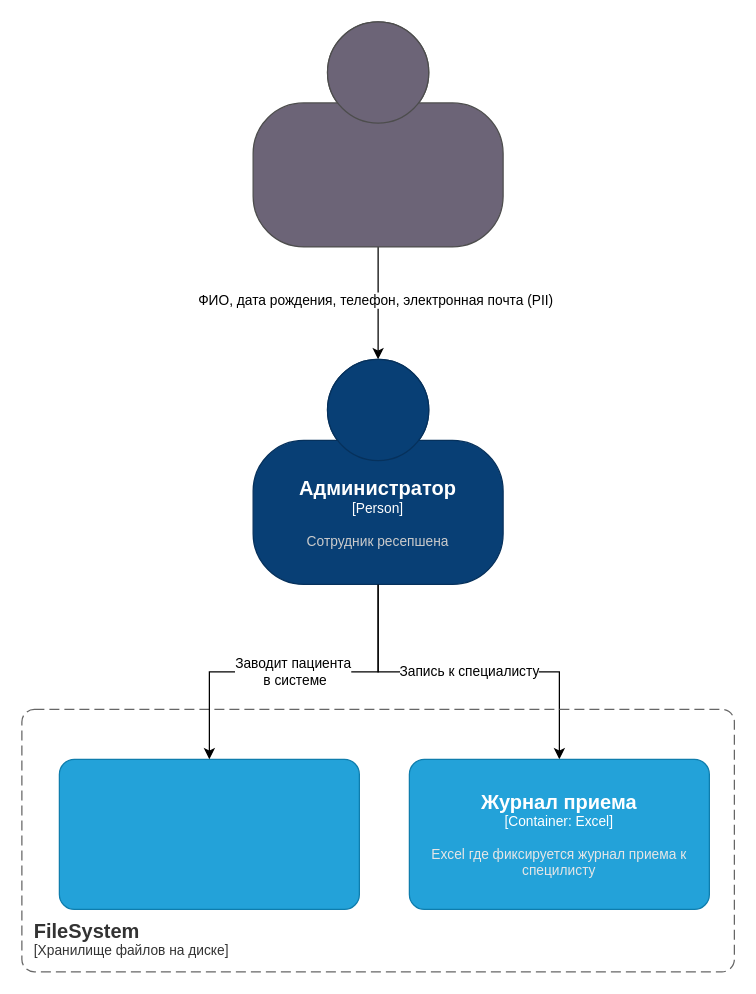
The diagram is 756 pixels wide and 994 high, and some of its shapes have lost their labels. The centre of each missing label's shape, as x and y in pixels:
Мед карта [Container: File] Файлы пациента в разных форматах: (x=208, y=833)
Пациент [Person] Пациент: (x=377, y=134)
